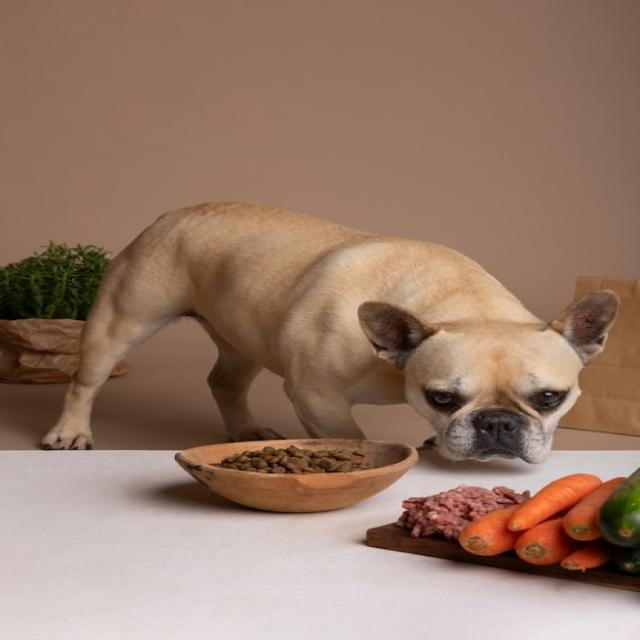Dog: (36, 201, 620, 464)
